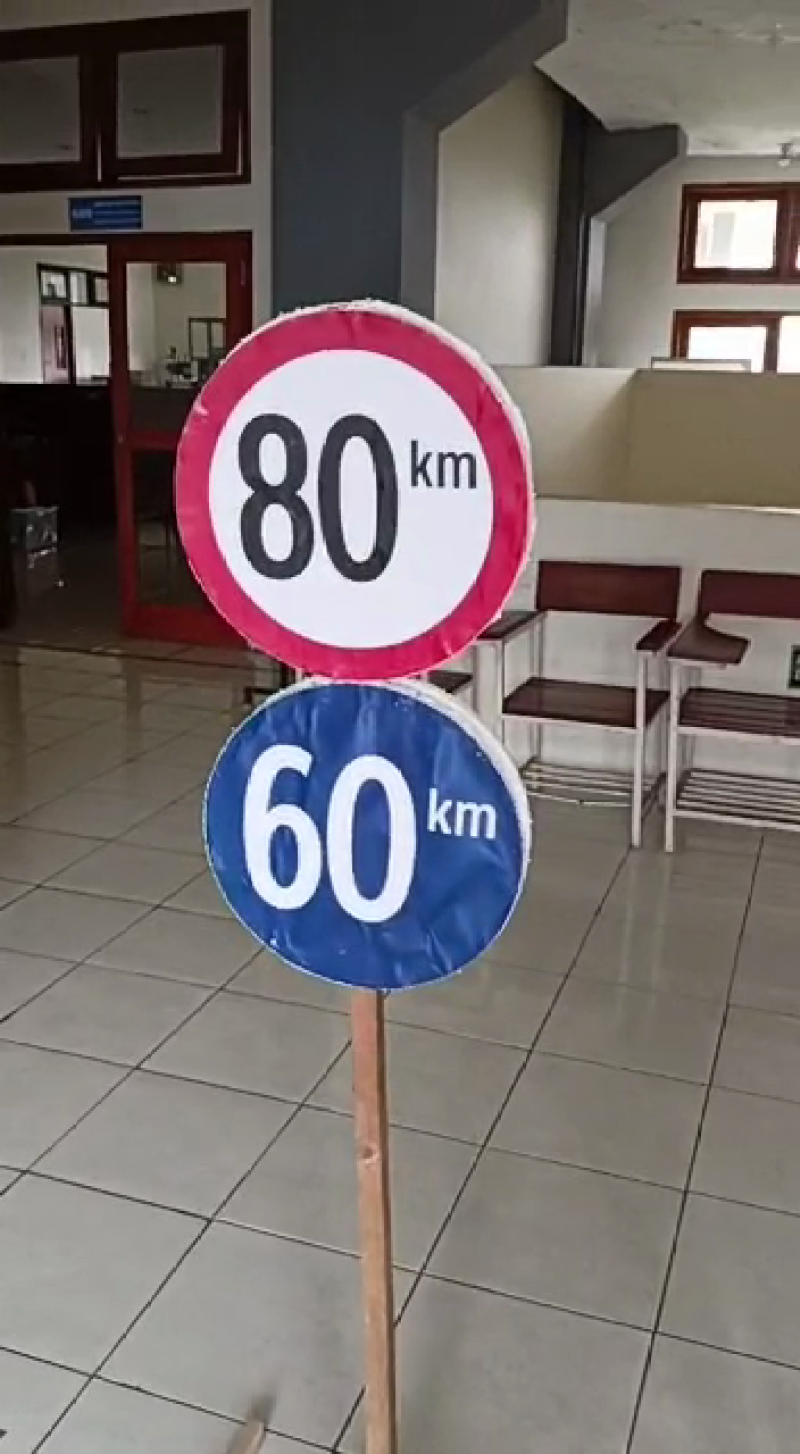batas maksimal 80kmperjam minimal 60kmperjam: (168, 285, 558, 995)
